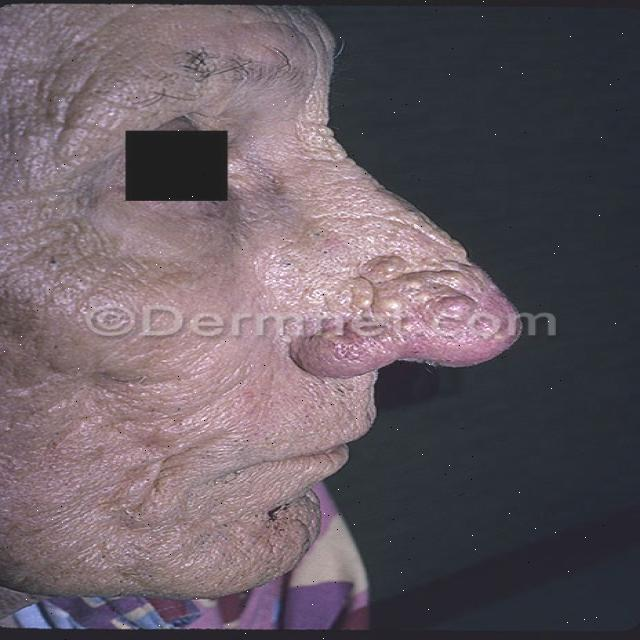images: (0, 2, 524, 629)
